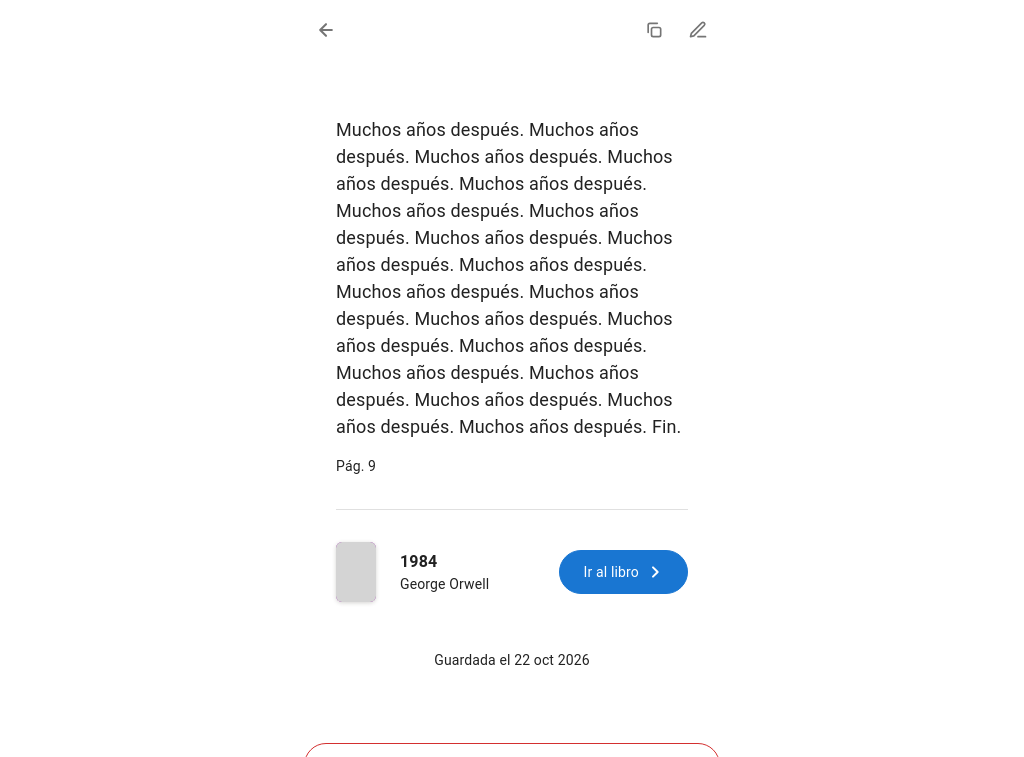
Given the quote detail page › When copying the quote fails › Then it says it could not be copied
Step 1. Click the button named "Copiar cita" → click(654, 30), box [632,8,676,52]
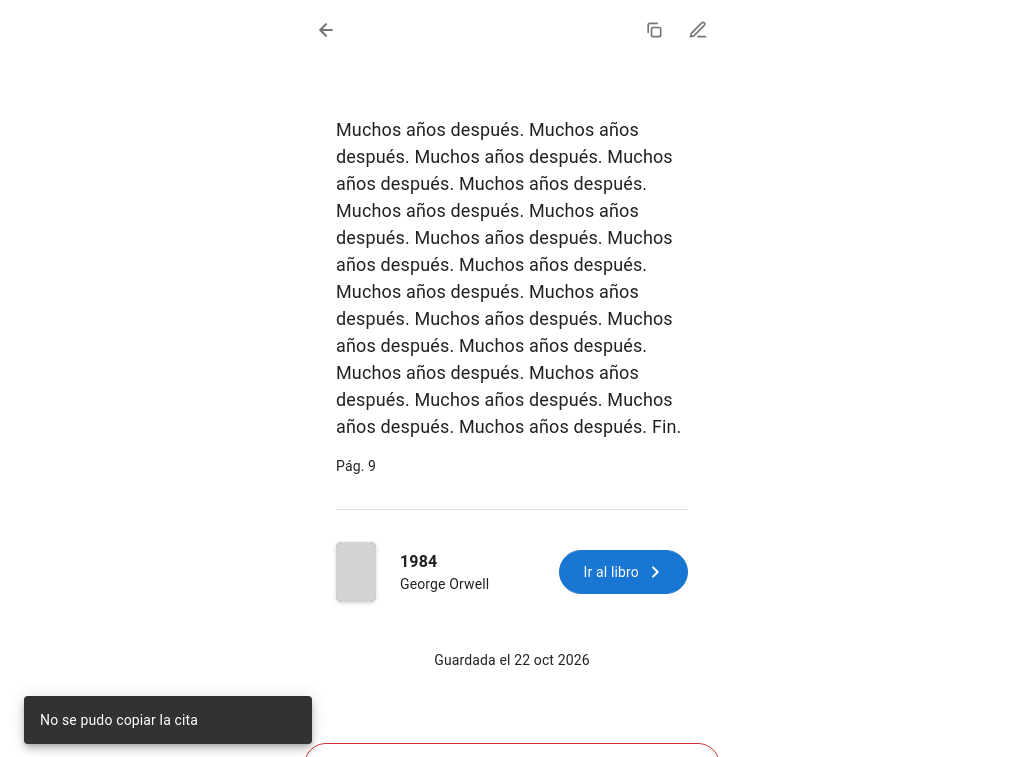
Check: the text "No se pudo copiar la cita" is shown, box [40,712,198,728]
